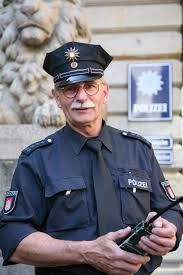uniform: (5, 118, 179, 266)
